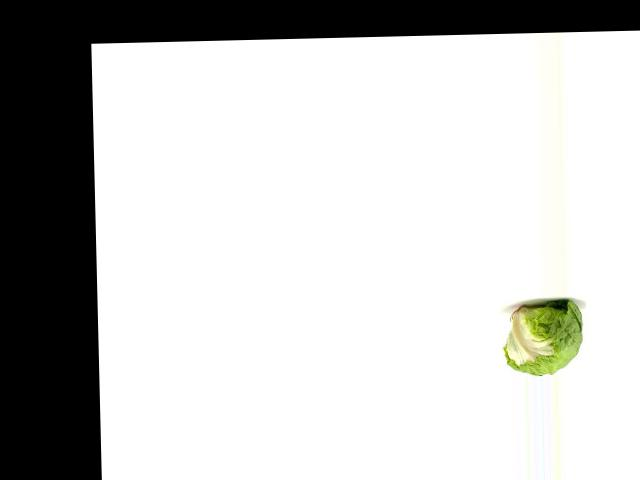lettuce: (500, 295, 585, 376)
